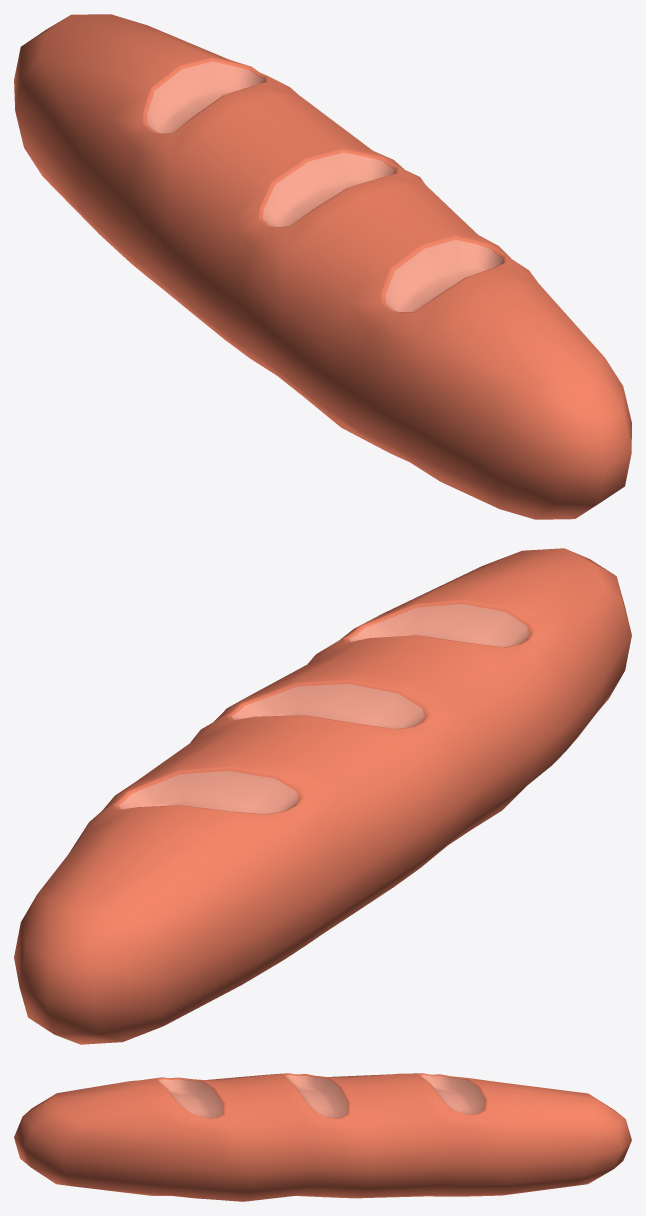
Rendered from SM_LilBread.fbx.
3 views of the same model, one above another, from view 1: azimuth 30°, elevation 25°; view 2: azimuth 150°, elevation 25°; view 3: azimuth 270°, elevation 25° (orthographic). The views are drawn at different scales.
Parts seen in each view (by area): view 1: SM_LilBread; view 2: SM_LilBread; view 3: SM_LilBread.
Boxes of the visible parts, bbox=[...] form: SM_LilBread: bbox=[14, 14, 631, 519]; SM_LilBread: bbox=[14, 548, 631, 1044]; SM_LilBread: bbox=[14, 1073, 631, 1201].
Size of the model in its own units: 12.32 by 9.62 by 50.19.
